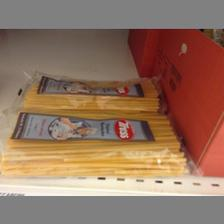Nudeln: (0, 107, 192, 179), (13, 68, 167, 110)
